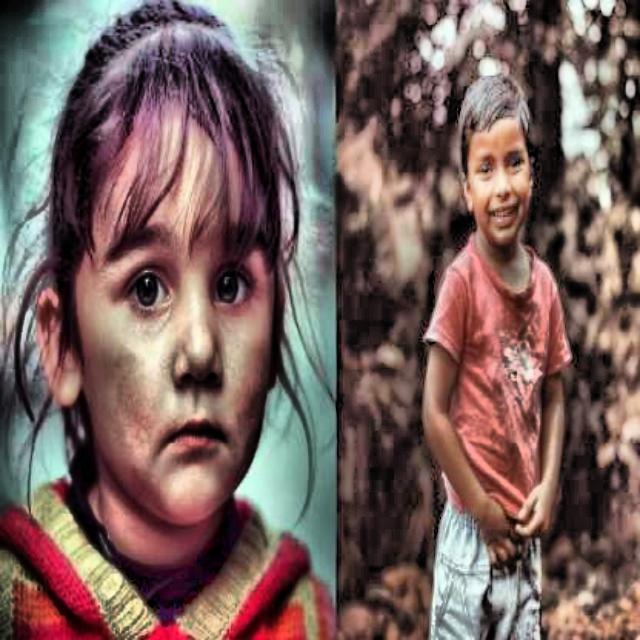happy: (444, 75, 539, 270)
sad: (21, 7, 296, 531)
